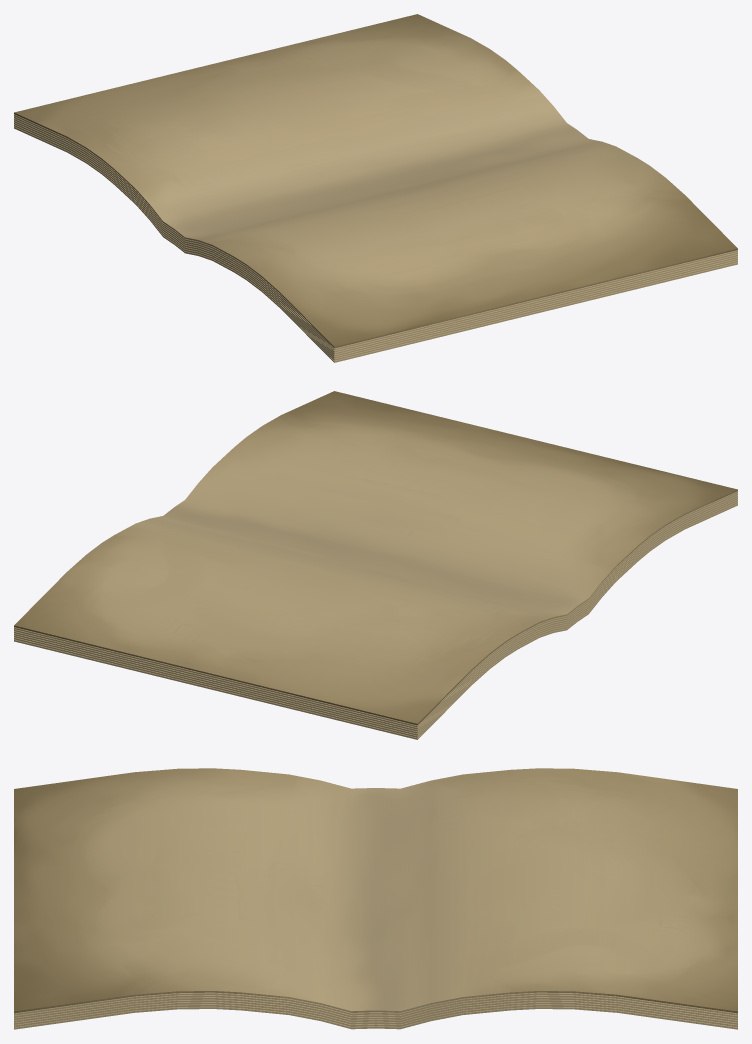
Rendered from llibreta_oberta_texturabona.FBX.
3 views of the same model, one above another, from view 1: azimuth 30°, elevation 25°; view 2: azimuth 150°, elevation 25°; view 3: azimuth 270°, elevation 25° (orthographic). The views are drawn at different scales.
Parts seen in each view (by area): view 1: Box010; view 2: Box010; view 3: Box010.
Boxes of the visible parts, bbox=[...] form: Box010: bbox=[14, 14, 737, 362]; Box010: bbox=[14, 391, 737, 739]; Box010: bbox=[14, 768, 737, 1029].
Size of the model in its own units: 5.91 by 0.4796 by 8.12.
